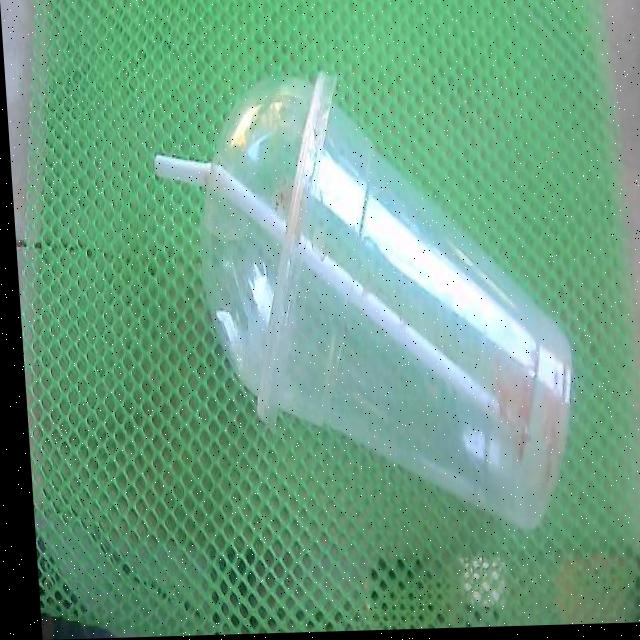cup: (253, 77, 567, 530)
